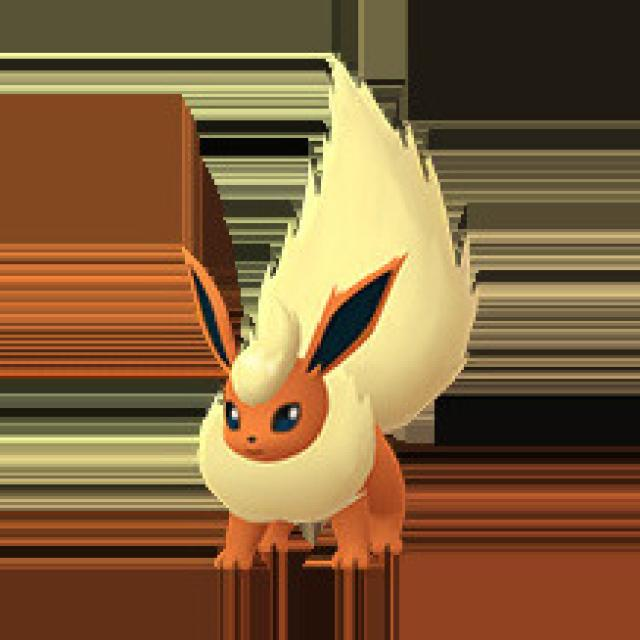Flareon: (174, 237, 415, 575)
